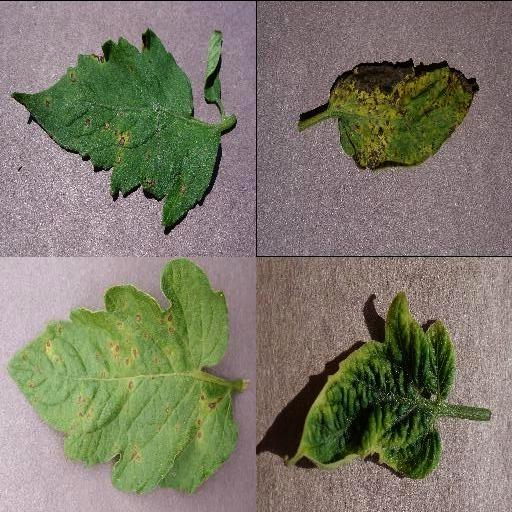Septoria: (7, 258, 237, 489), (10, 27, 220, 229), (328, 61, 478, 171)
Yellow Leaf Curl Virus: (282, 291, 454, 479)
